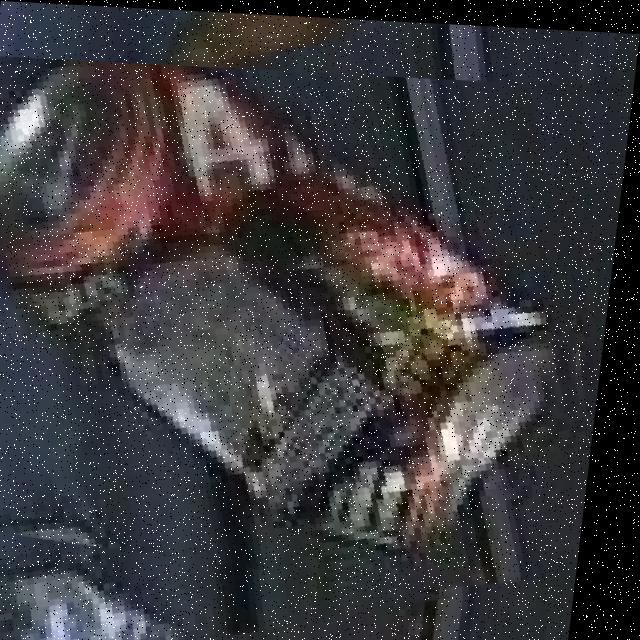litter: (0, 56, 589, 588)
